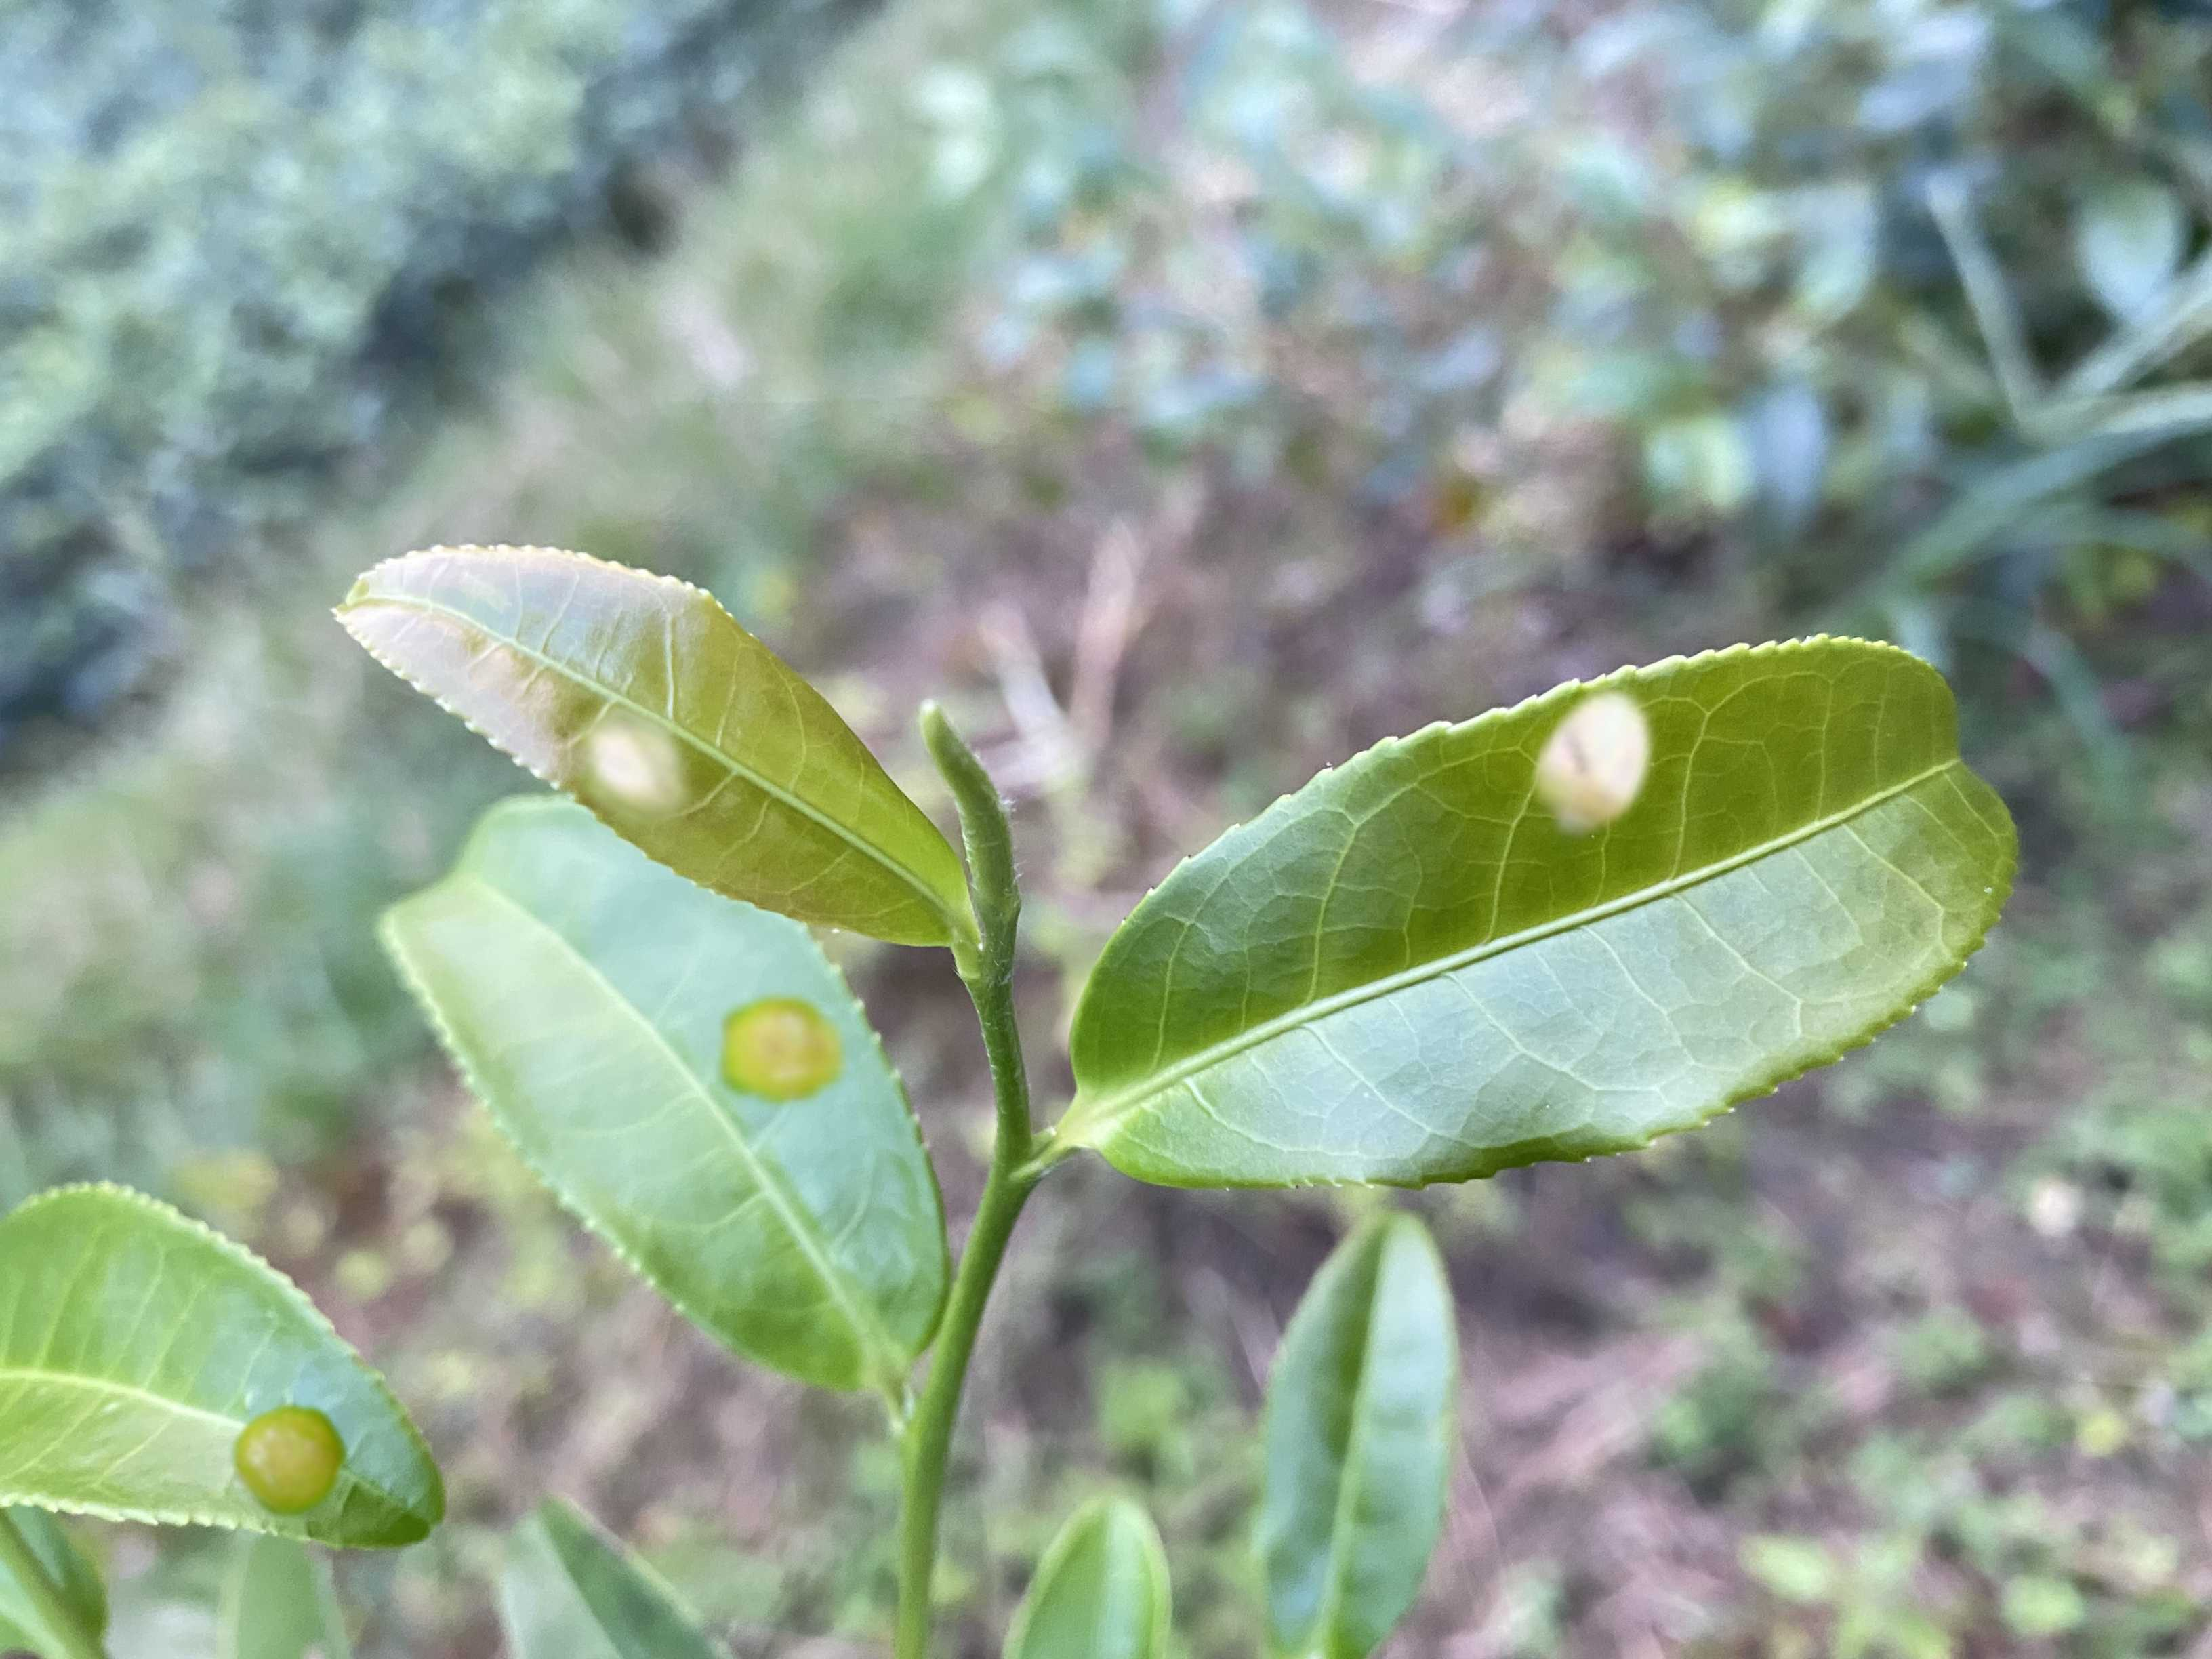chabing_low: (1066, 633, 2026, 1192), (381, 793, 951, 1387), (331, 544, 965, 945), (2, 1180, 448, 1553)
healthy: (1249, 1202, 1460, 1650)
